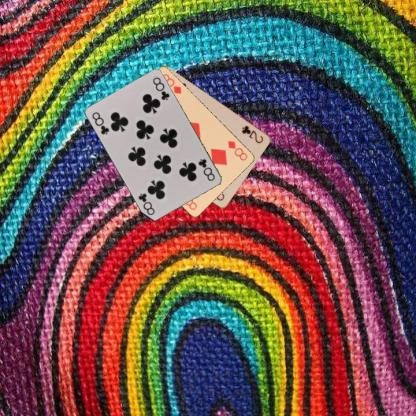2c: (239, 123, 265, 145)
8c: (89, 110, 111, 136), (196, 156, 216, 183)
8d: (226, 138, 248, 162)
